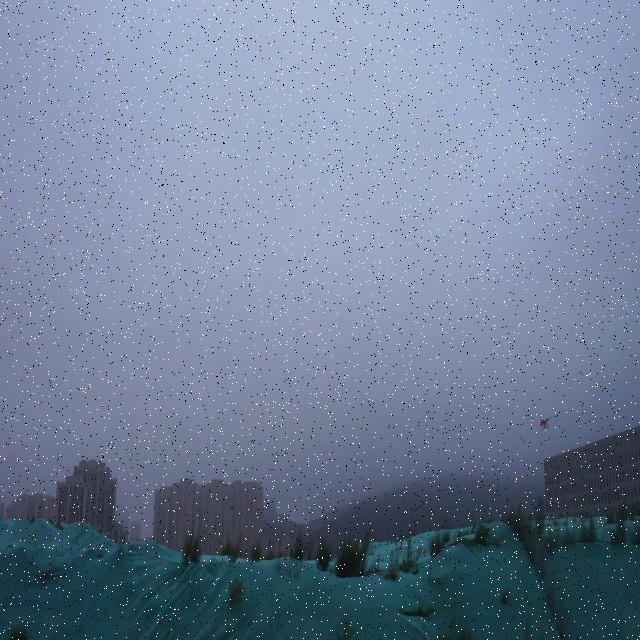UAV: (535, 415, 552, 431)
